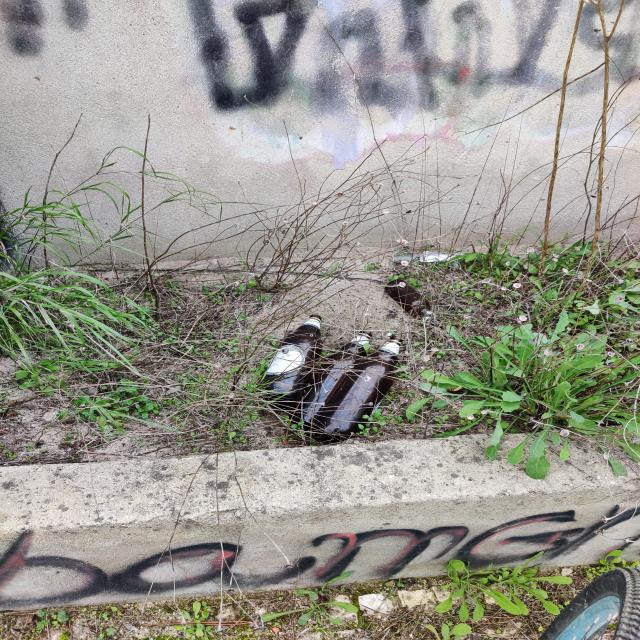litter: (263, 294, 412, 457)
